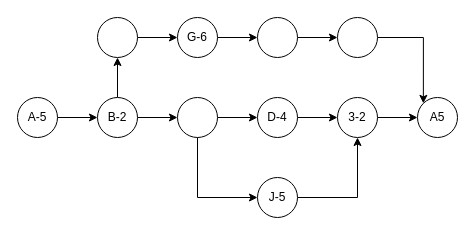
This 475x235 diagram has some shape labels left out. Here are the shapes that lost their labels. From the top down, the centre of each, then its label:
At [117,37]: "F-3".
At [277,37]: "H-1".
At [357,37]: "I-1".
At [197,117]: "C3".
